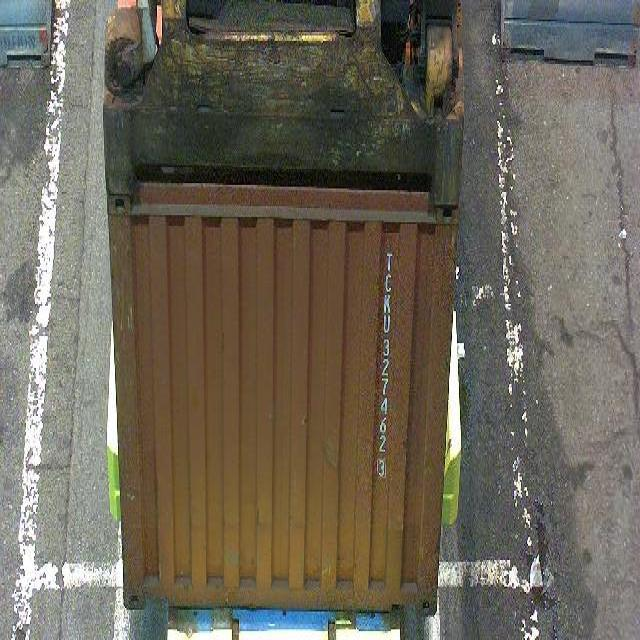container_number: (369, 237, 398, 481)
